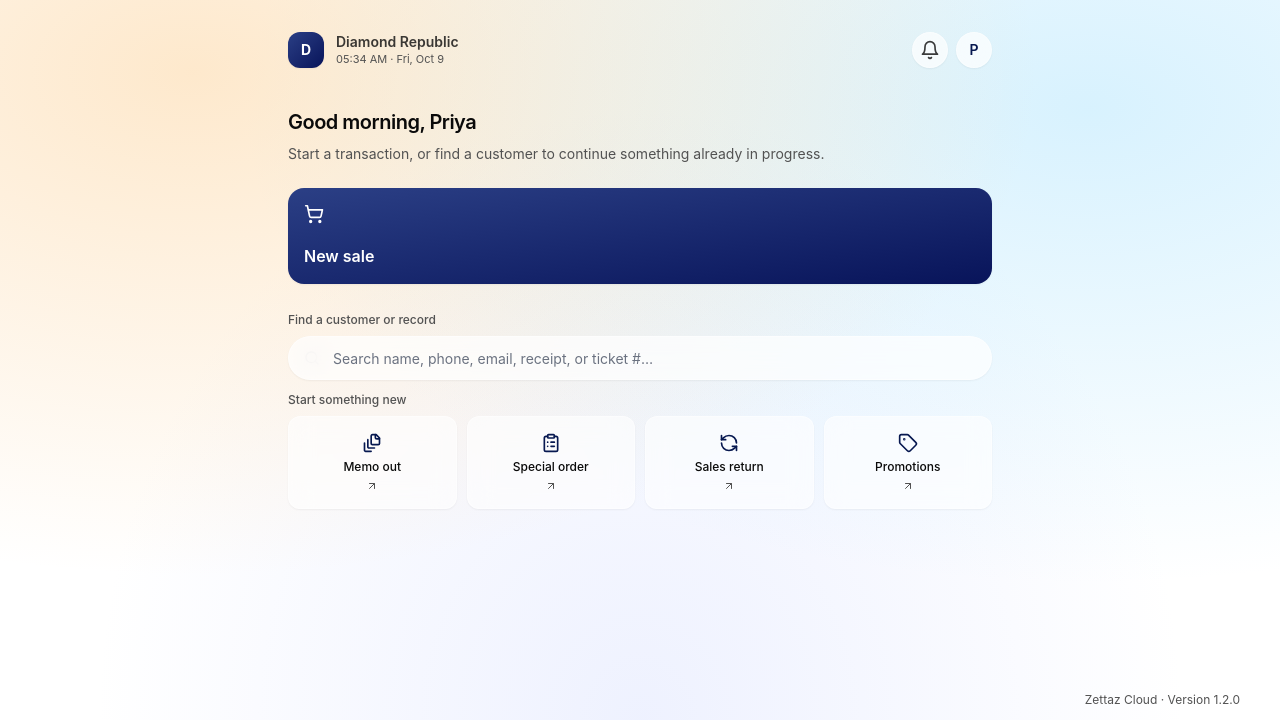
it: SalesHubPage › renders a standalone (no-customer-match) record result
Type "1042" into the field with placeholder "Search name, phone, email, receipt, or ticket #…".
click(640, 358); type("1042")  # box [288,336,992,380]
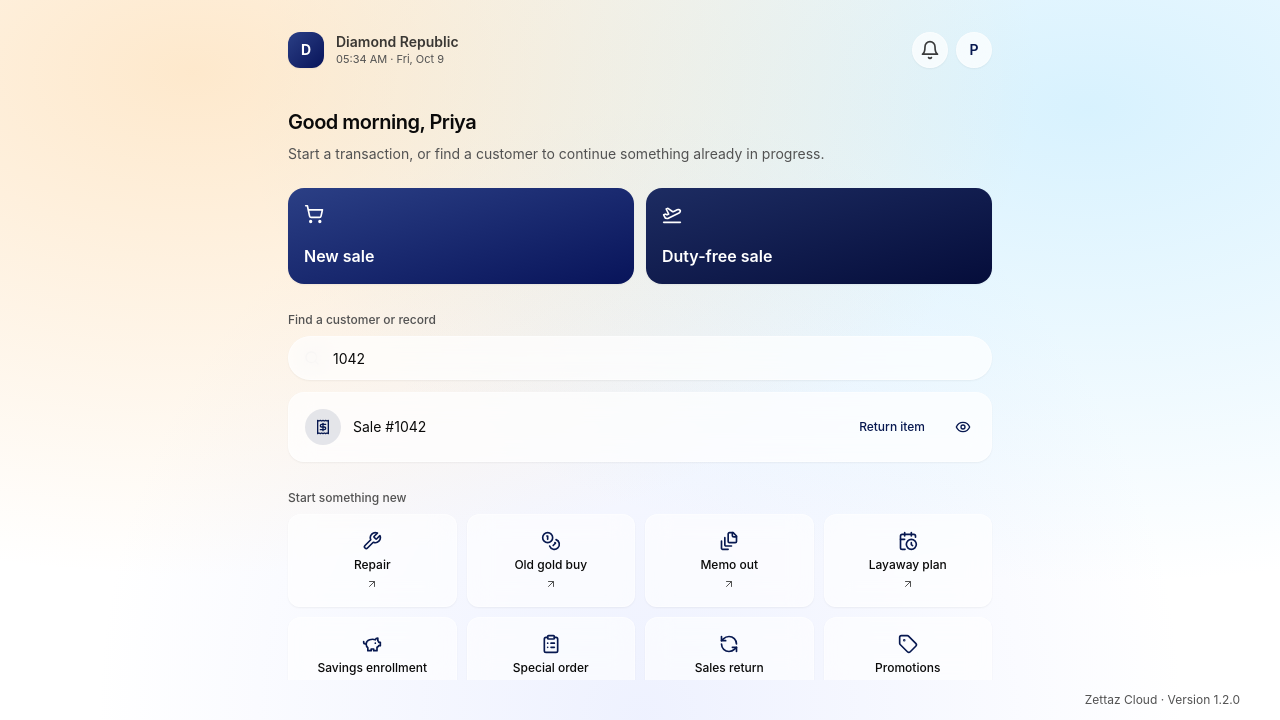
Now the text "Sale #1042" is shown, box [353,417,426,437]
Now the text "Return item" is shown, box [859,419,925,435]
